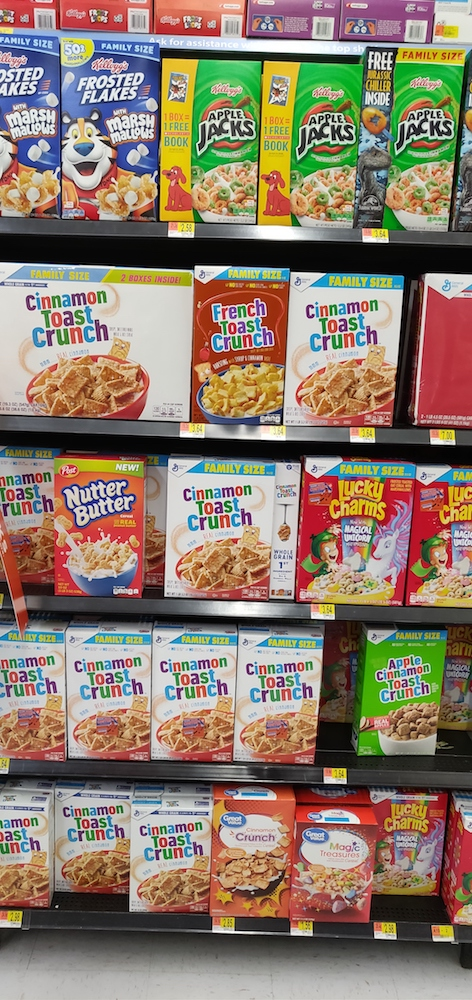Nutter Butter-565717511: (51, 450, 147, 600)
